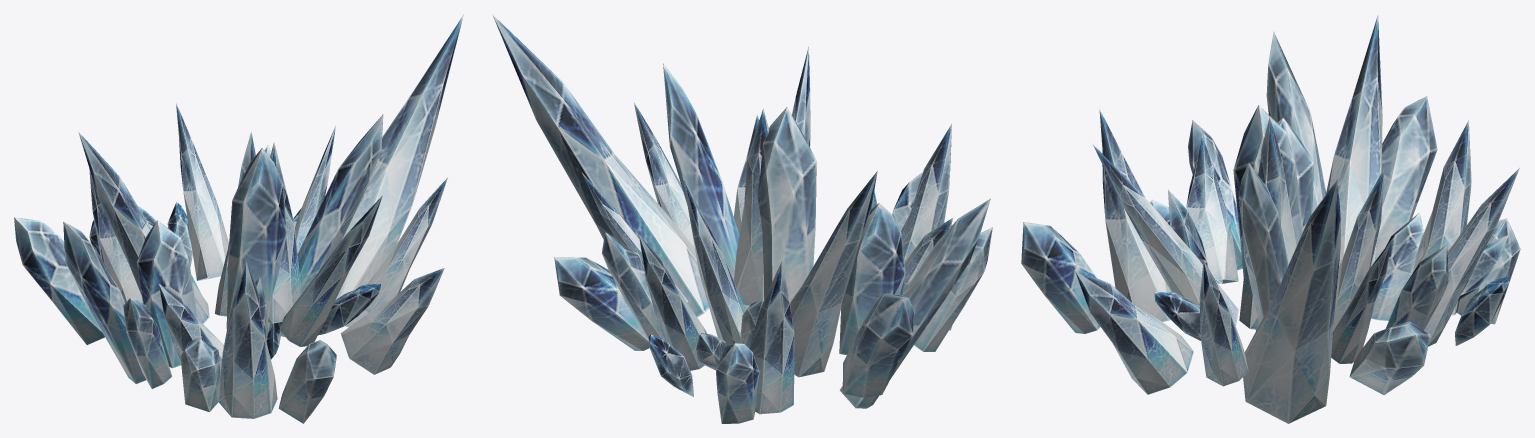
File: Ice_Wights.FBX
The picture shows the model from 3 angles, left to right: view 1: azimuth 30°, elevation 25°; view 2: azimuth 150°, elevation 25°; view 3: azimuth 270°, elevation 25°; orthographic projection. The views are drawn at different scales.
Parts seen in each view (by area): view 1: Ice_Wights_Group, Ice_Wights_01; view 2: Ice_Wights_Group, Ice_Wights_01; view 3: Ice_Wights_Group, Ice_Wights_01.
Part boxes in pixels (x1,y1,x2,y2): Ice_Wights_Group: (14, 14, 463, 423); Ice_Wights_01: (268, 142, 301, 323); Ice_Wights_Group: (492, 14, 992, 423); Ice_Wights_01: (734, 108, 768, 305); Ice_Wights_Group: (1021, 15, 1520, 423); Ice_Wights_01: (1239, 117, 1296, 329).
Size of the model in its own units: 15.46 by 9.7 by 13.23.
